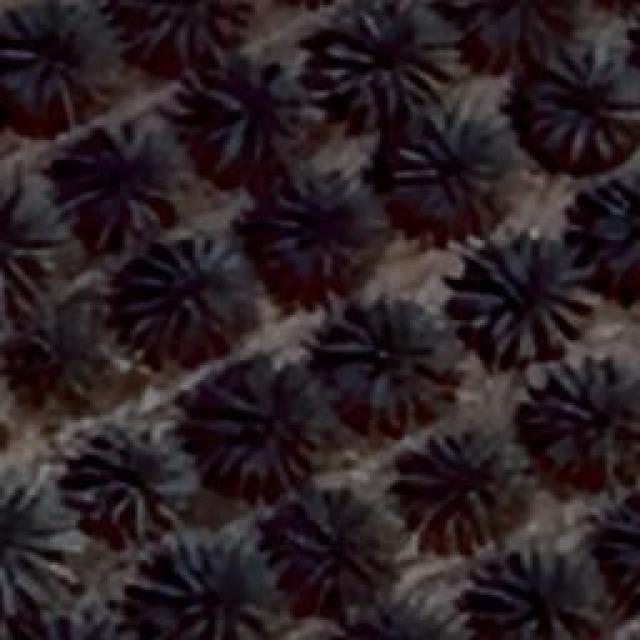PalmTree: (81, 118, 622, 547), (458, 235, 598, 363), (322, 300, 458, 425), (322, 8, 460, 120), (202, 368, 322, 488), (187, 74, 315, 184), (144, 534, 278, 638), (0, 0, 105, 132), (394, 428, 508, 548), (522, 355, 636, 475), (520, 45, 638, 160), (120, 230, 238, 342), (78, 422, 192, 536), (262, 186, 376, 289), (0, 462, 80, 608), (35, 112, 81, 360), (282, 490, 396, 590), (390, 105, 502, 205), (68, 128, 170, 232), (475, 547, 595, 635), (120, 0, 250, 72), (0, 189, 60, 329), (590, 170, 638, 282), (336, 598, 462, 640), (337, 598, 462, 640), (21, 595, 129, 640), (466, 0, 562, 50)
